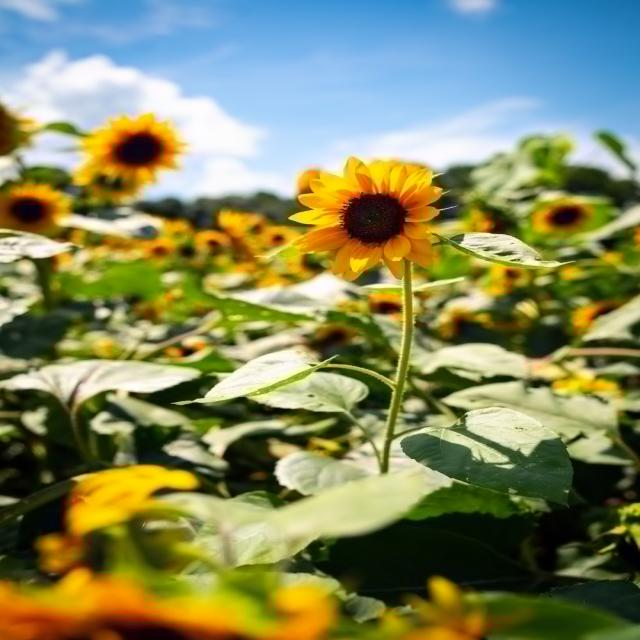sunflower: (0, 566, 346, 640), (0, 458, 219, 568), (280, 152, 454, 288), (371, 576, 506, 640), (76, 110, 190, 185), (0, 175, 74, 241), (66, 157, 158, 208), (0, 89, 50, 170), (569, 295, 640, 344), (531, 196, 597, 242), (462, 200, 522, 246), (431, 309, 498, 344), (364, 284, 418, 326), (156, 338, 214, 370), (219, 207, 273, 240), (485, 262, 538, 293), (304, 321, 360, 348), (186, 231, 233, 259), (257, 225, 306, 250), (137, 240, 179, 264)
